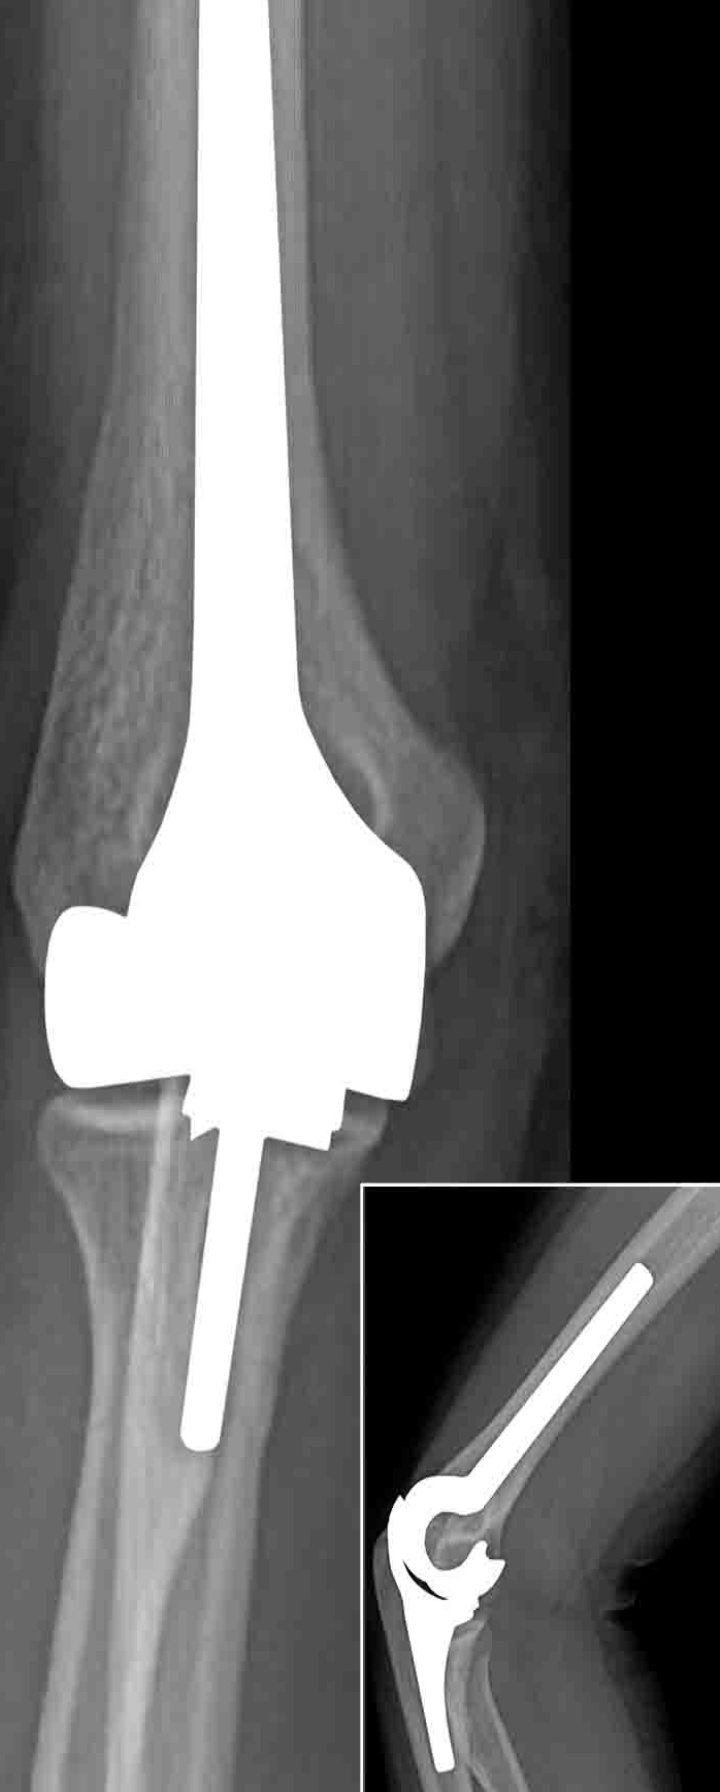Elbow - IBP - Biomet: (18, 5, 456, 1461), (377, 1229, 656, 1792)
